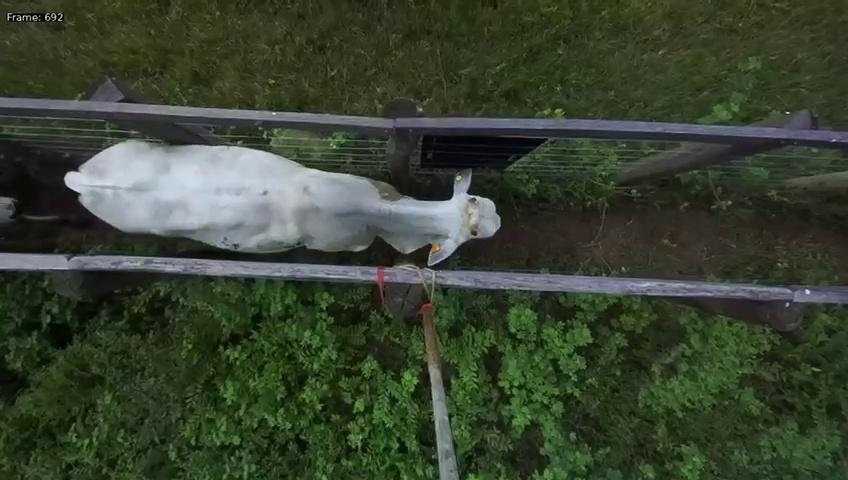cattle: (61, 133, 502, 268)
